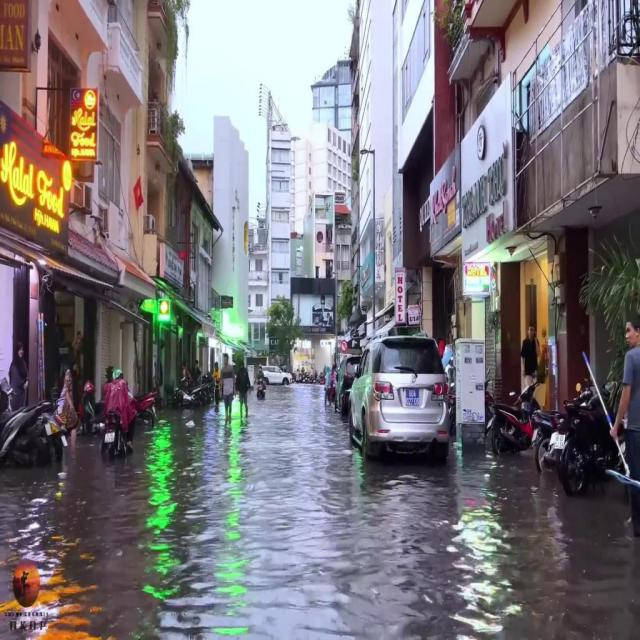cam_re_trai: (340, 340, 348, 352)
